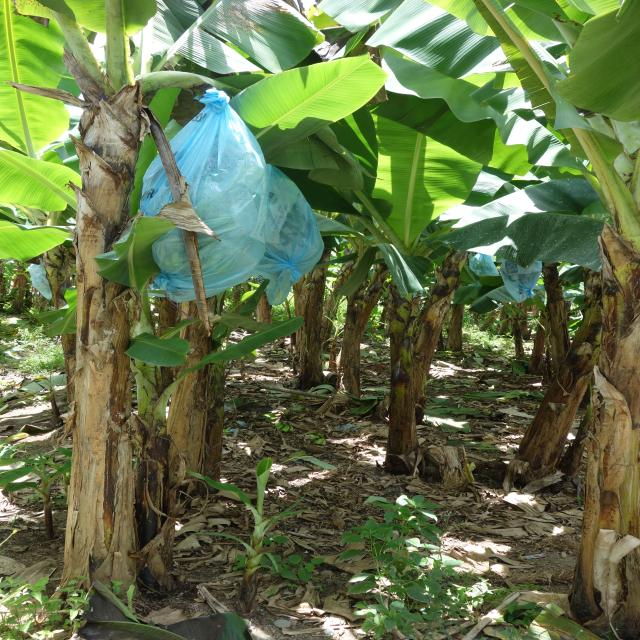Banana-plant: (44, 54, 178, 608), (570, 148, 640, 640), (367, 221, 460, 478)
